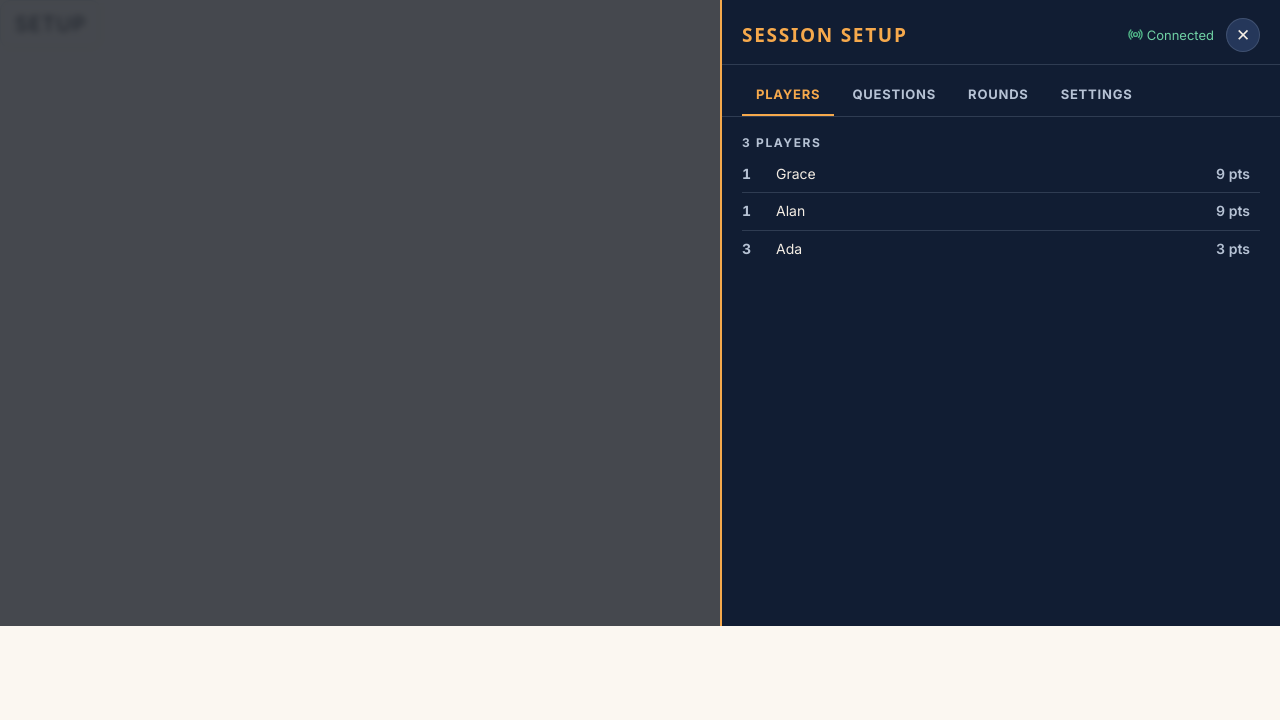
Scenario: the panel as a surface › only the Questions tab widens the panel
Click the tab "Questions" at {"x": 894, "y": 95}, box [838,75,950,116]
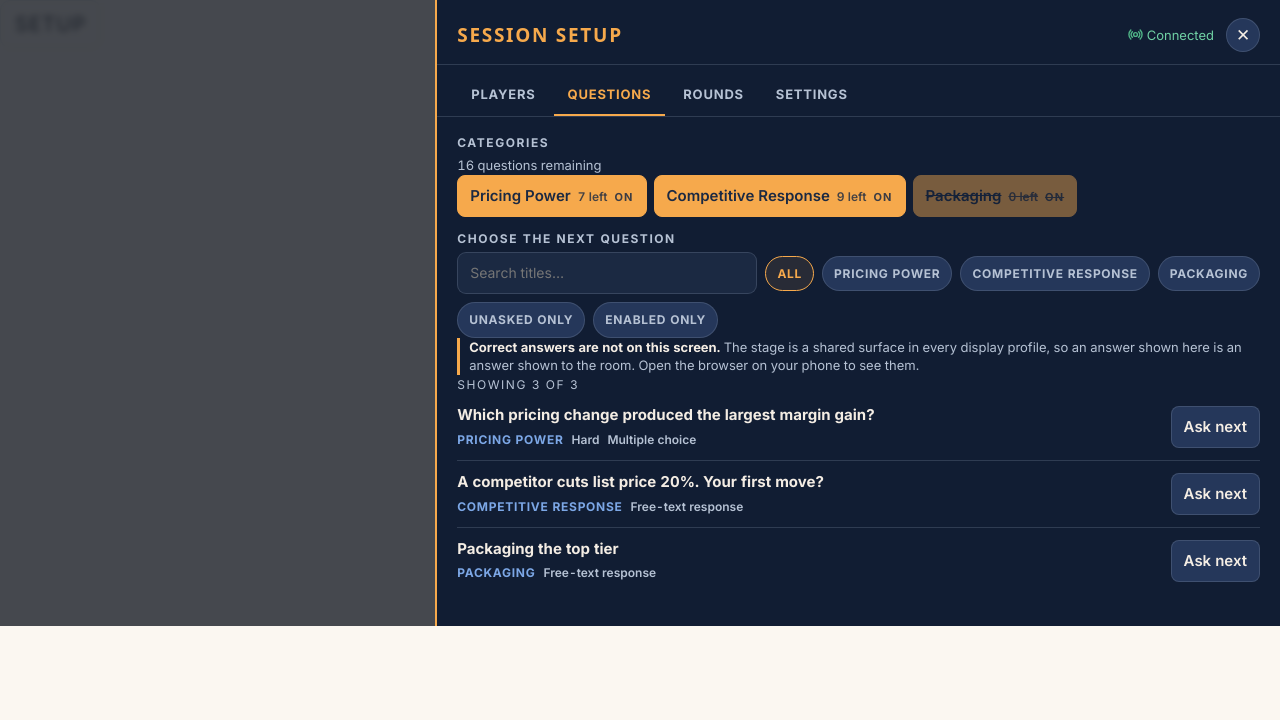
Expected: the dialog with class "setup-panel" has class "setup-panel--wide", [435,0,1279,626]
Click the tab "Players" at {"x": 503, "y": 95}, box [457,75,550,116]
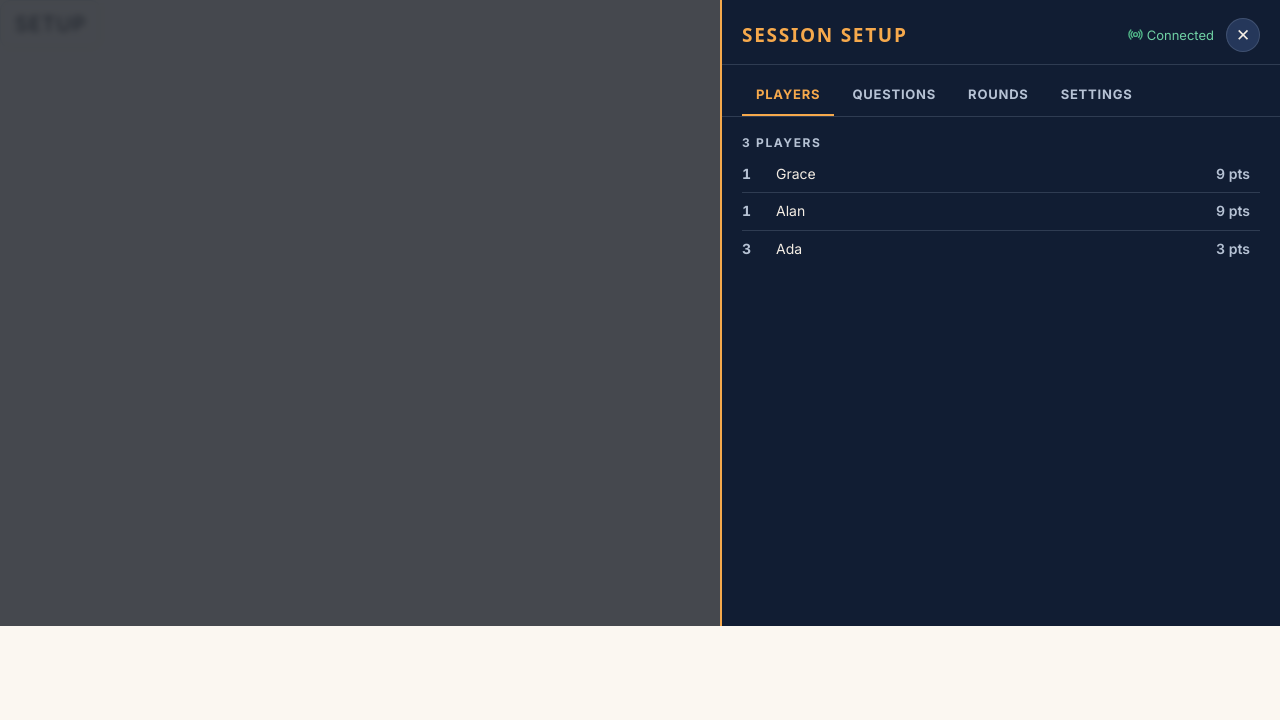
Expected: the dialog with class "setup-panel" does not have class "setup-panel--wide", [720,0,1279,626]
Click the tab "Settings" at {"x": 1097, "y": 95}, box [1047,75,1146,116]
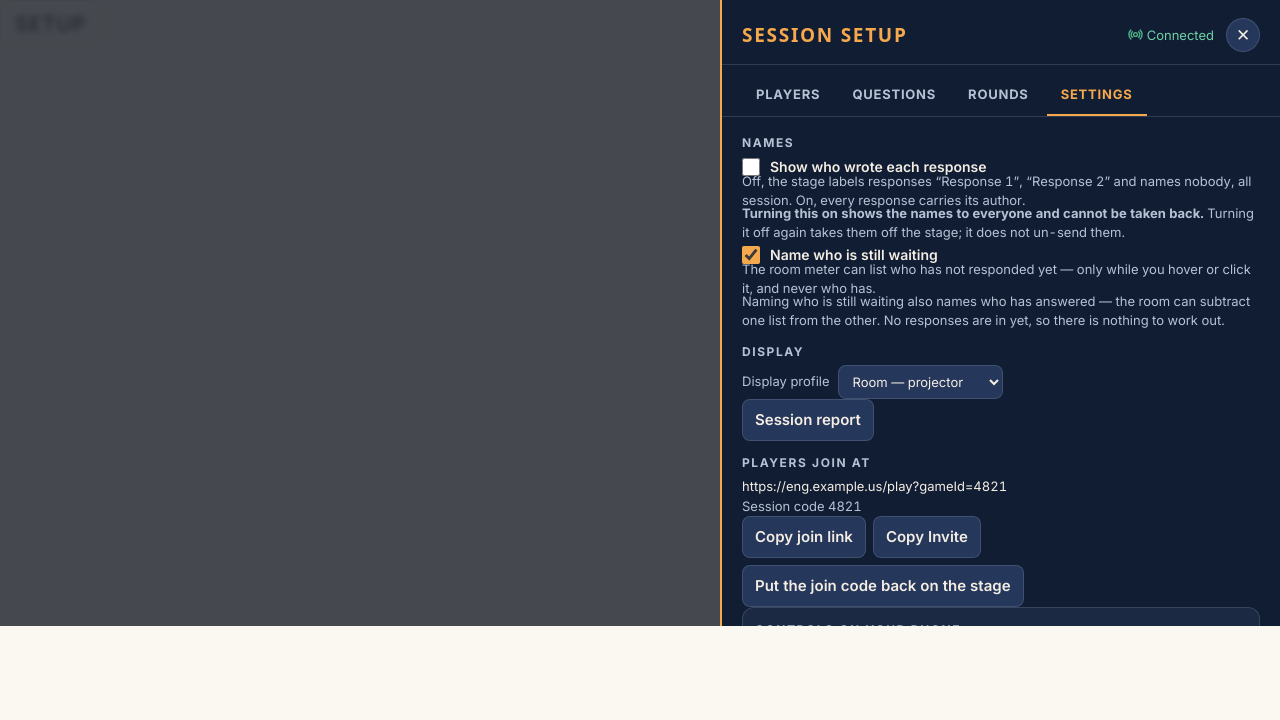
Expected: the dialog with class "setup-panel" does not have class "setup-panel--wide", [720,0,1279,626]
